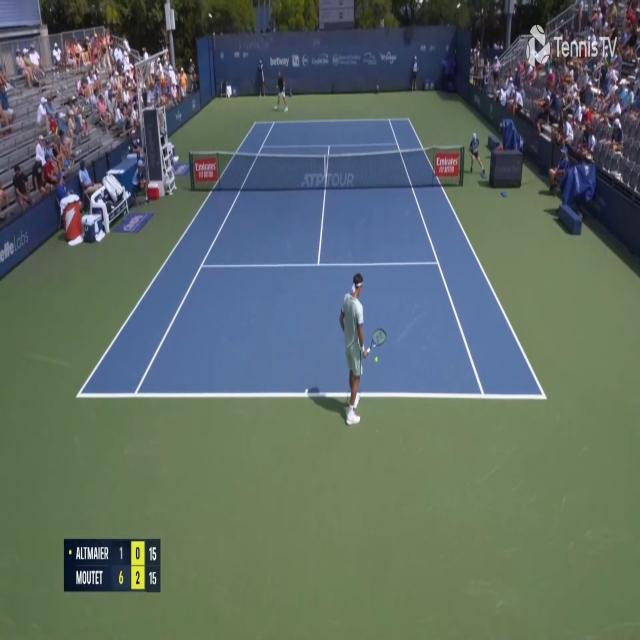tennis-player: (339, 268, 388, 431), (273, 70, 290, 113)
